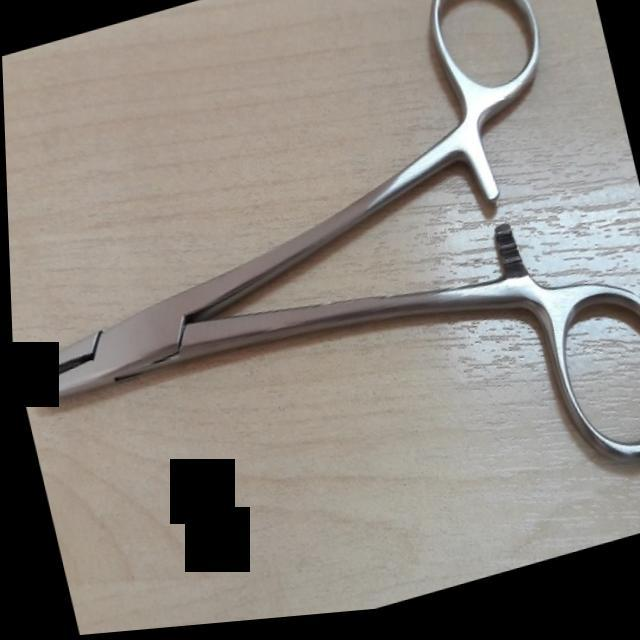Needle Holder: (0, 0, 640, 638)
